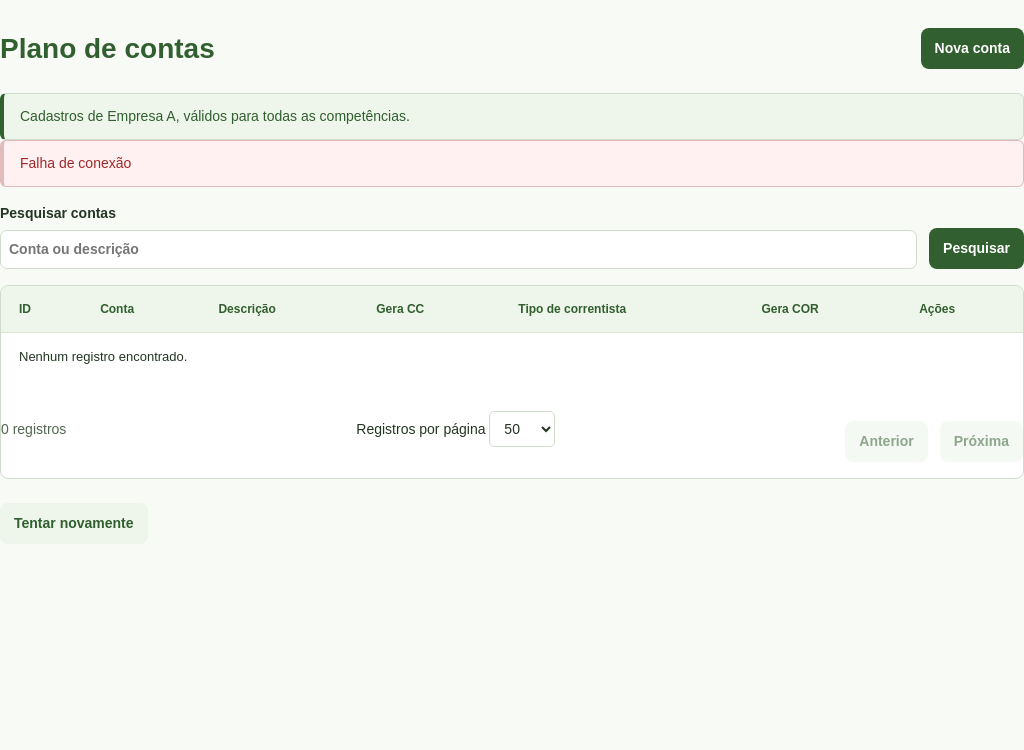
keeps the form after a conflict and allows retrying a failed consultation
This screenshot has width=1024, height=750.
Click the button "Tentar novamente": (74, 523) top-left (0, 502), bottom-right (148, 544)
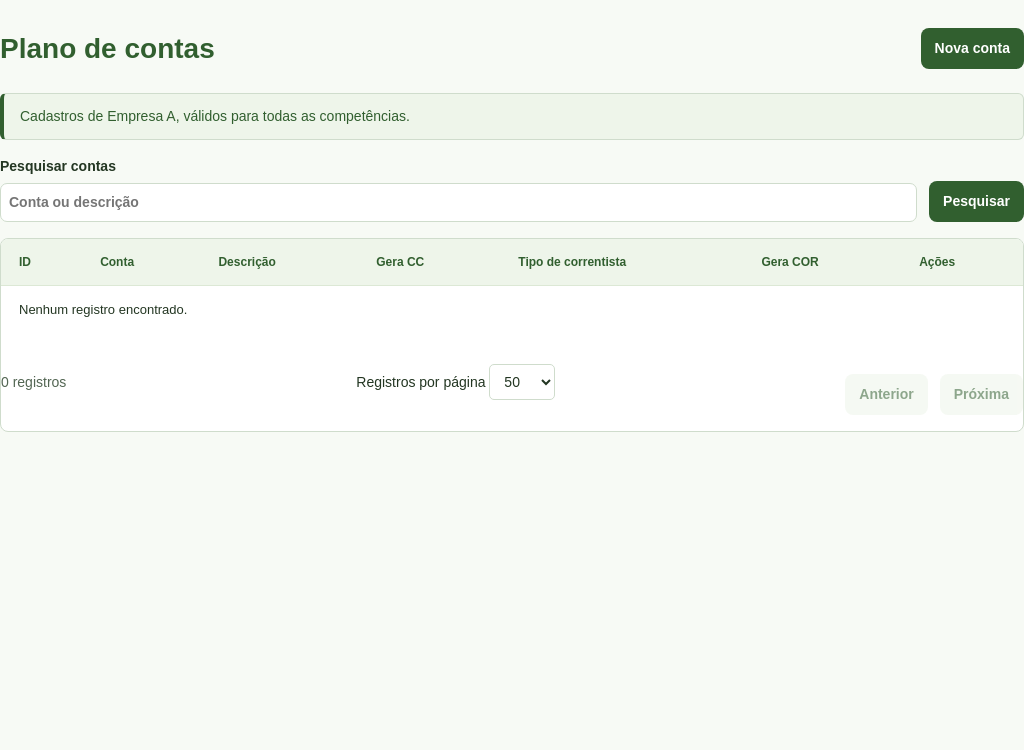
Expected: the text "Nenhum registro encontrado." is shown, top-left (1, 286), bottom-right (1023, 334)
Click the button "Nova conta": (972, 48) top-left (920, 28), bottom-right (1023, 69)
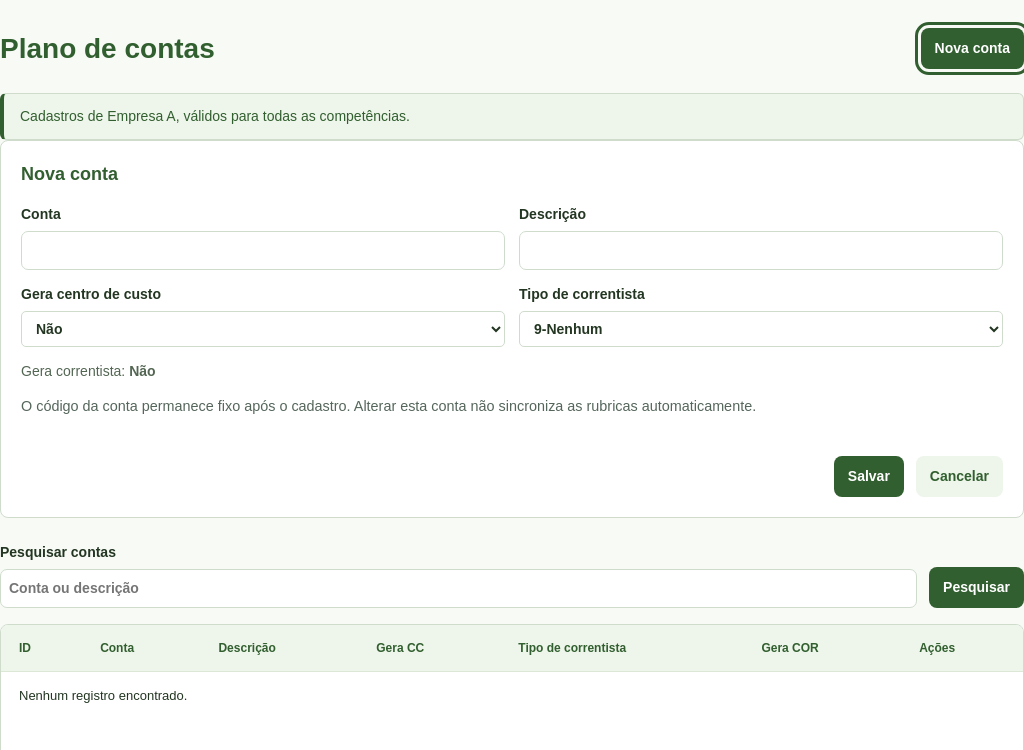
In the field labelled "Conta": (263, 250) top-left (21, 231), bottom-right (505, 270), type "00123"
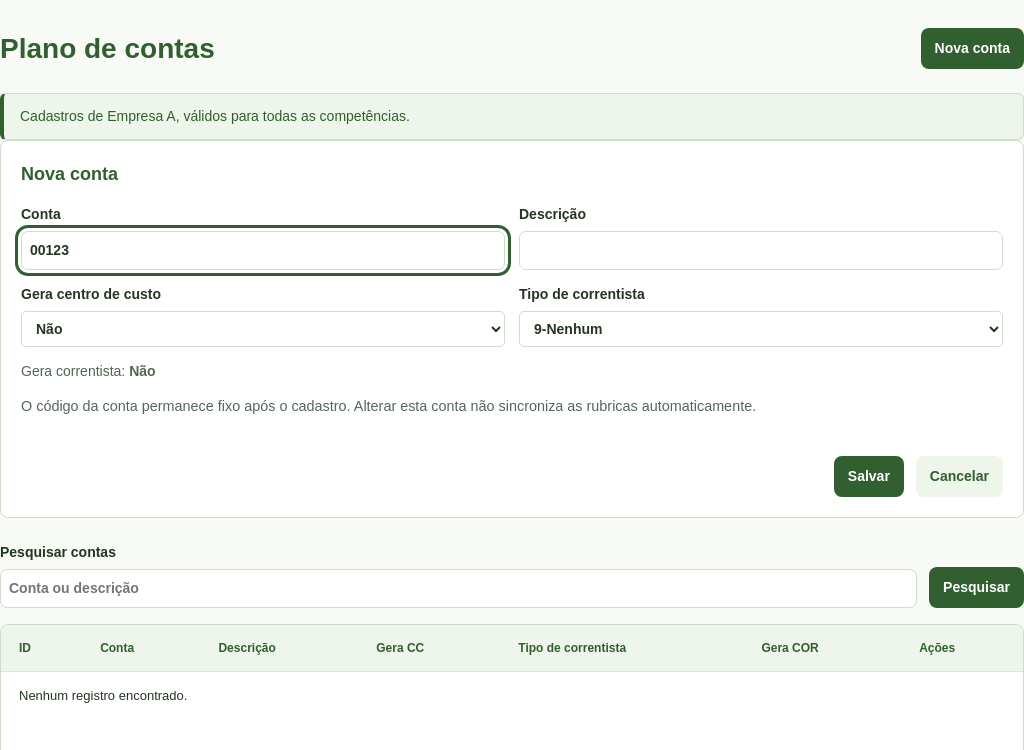
In the field labelled "Descrição": (761, 250) top-left (519, 231), bottom-right (1003, 270), type "Conta"
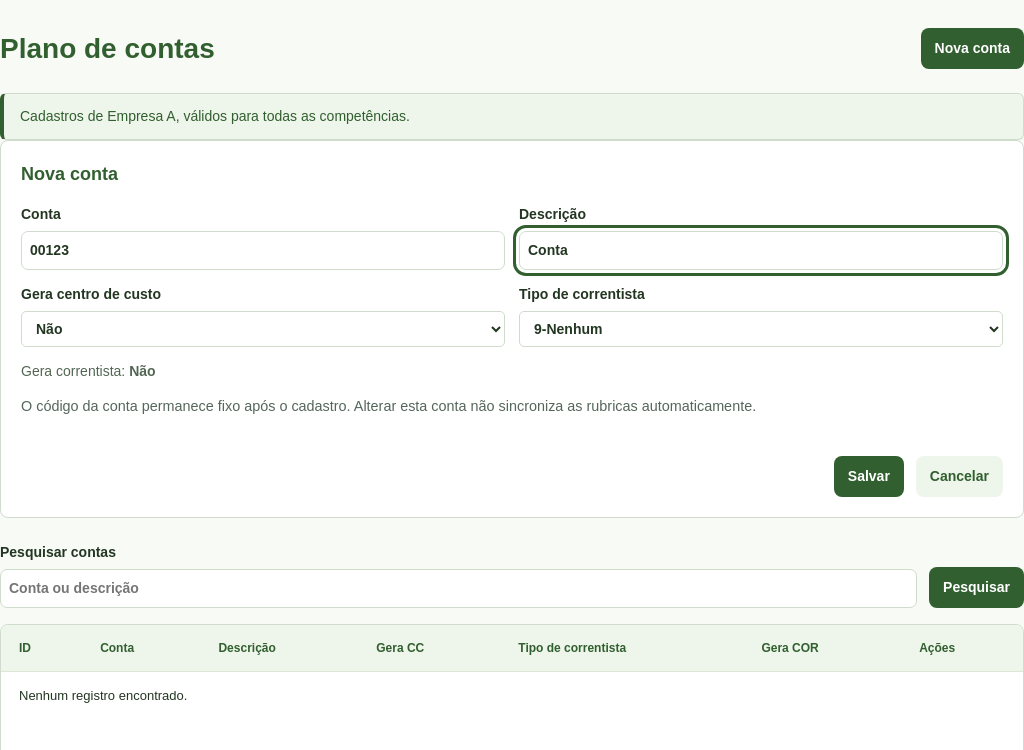
Click the button "Salvar": (869, 476) top-left (834, 456), bottom-right (904, 497)
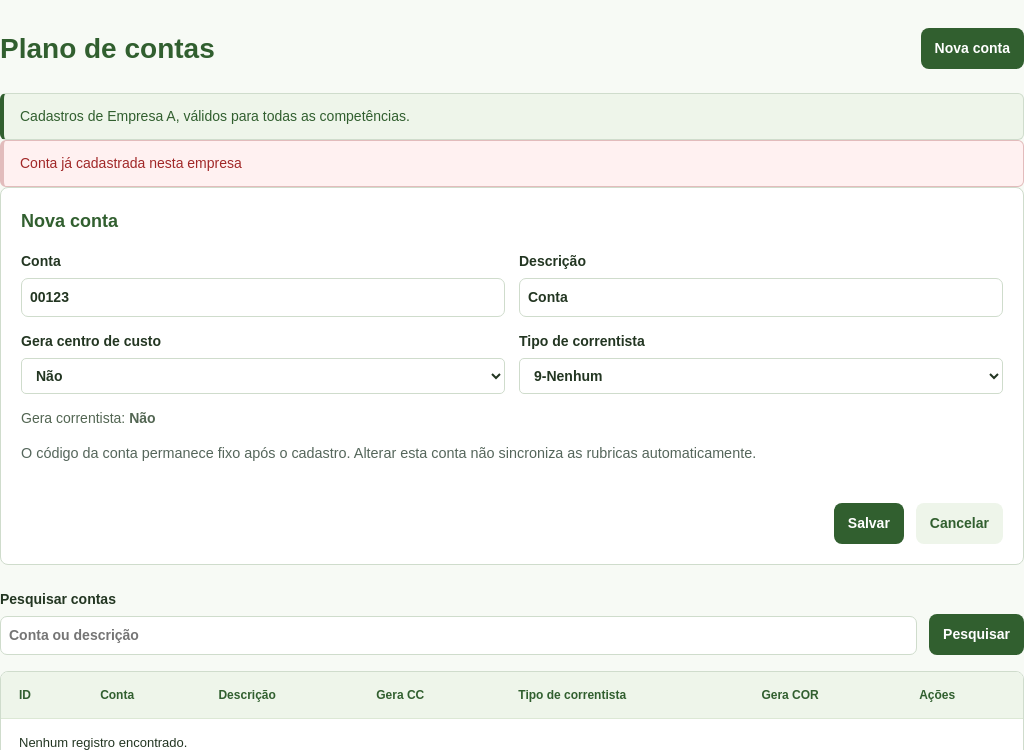
Expected: the text "Conta já cadastrada nesta empresa" is shown, top-left (0, 140), bottom-right (1023, 187)
